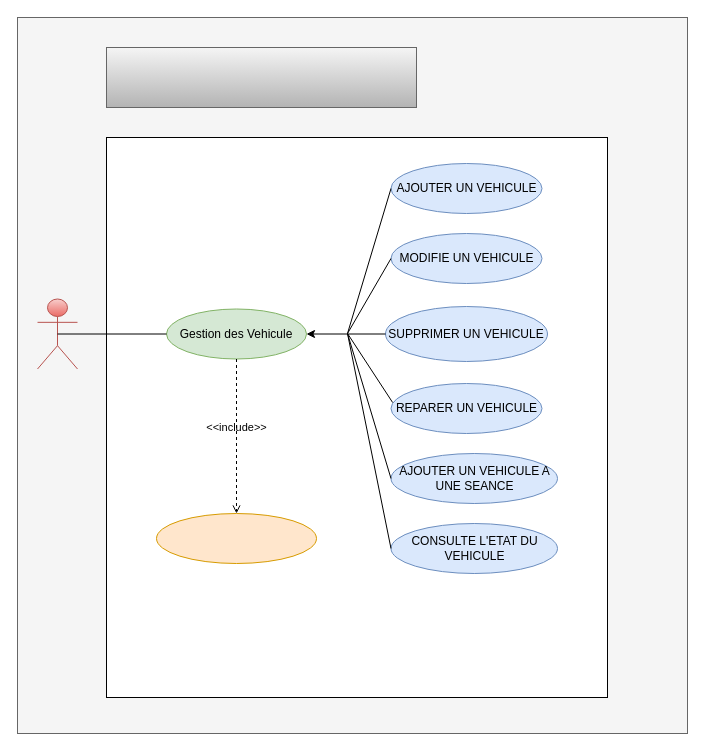
Image size: 705x751. Some labels were removed from this diagram. Each missing label, with the centre of its shape:
"DIAGRAMME CAS D'UTILISATION : GESTION DES VOITURES" belongs at pixel 261 77.
"S'AUTHENTIFIE" belongs at pixel 236 538.
"SECRETAIRE" belongs at pixel 57 333.
